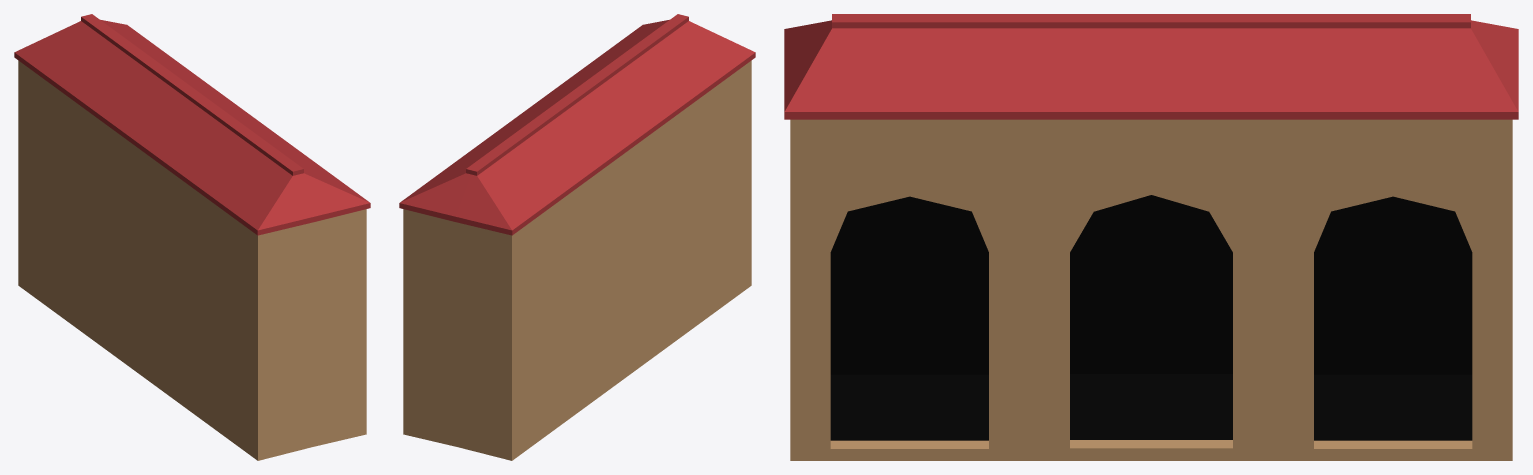
Rendered from Vault1.fbx.
The picture shows the model from 3 angles, left to right: view 1: azimuth 30°, elevation 25°; view 2: azimuth 150°, elevation 25°; view 3: azimuth 270°, elevation 25°; orthographic projection. The views are drawn at different scales.
Parts seen in each view (by area): view 1: Arco1; view 2: Arco1; view 3: Arco1.
Boxes of the visible parts, x1,y1,x2,y2 form: Arco1: (14,14,370,460); Arco1: (399,14,755,460); Arco1: (784,14,1518,460).
Size of the model in its own units: 1206 by 2729 by 4509.
